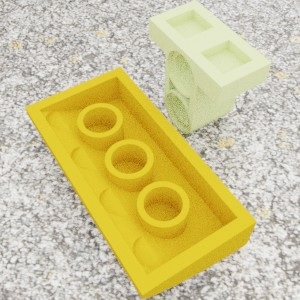lego: (24, 66, 257, 299), (149, 0, 271, 134)
